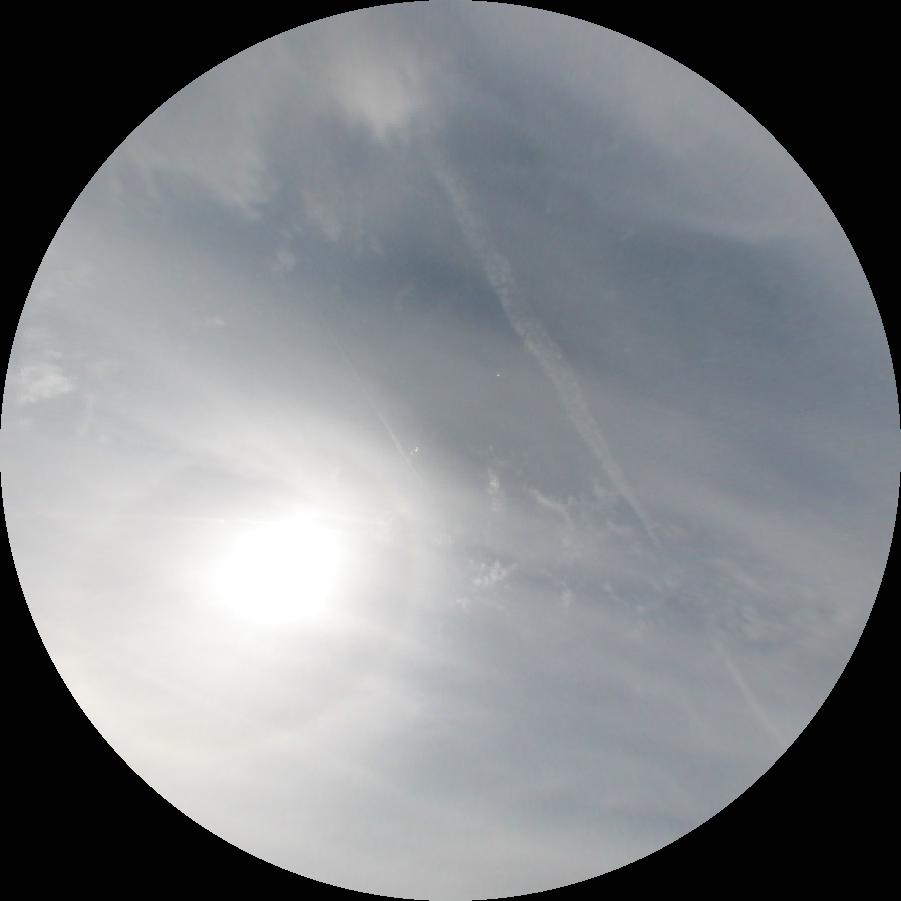contrail veryold: (416, 128, 784, 750)
contrail young: (307, 293, 438, 505)
parasite: (5, 515, 274, 522)
sun: (211, 516, 340, 626)
